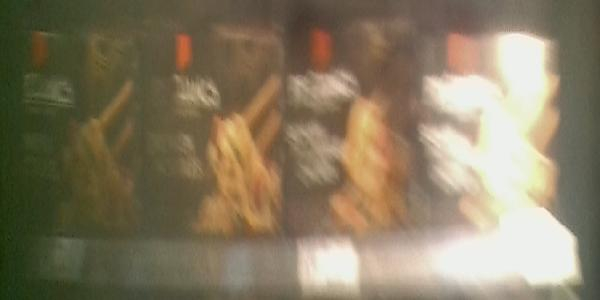pizza1: (145, 25, 284, 239), (420, 26, 567, 228), (286, 25, 423, 234), (15, 25, 145, 237)
